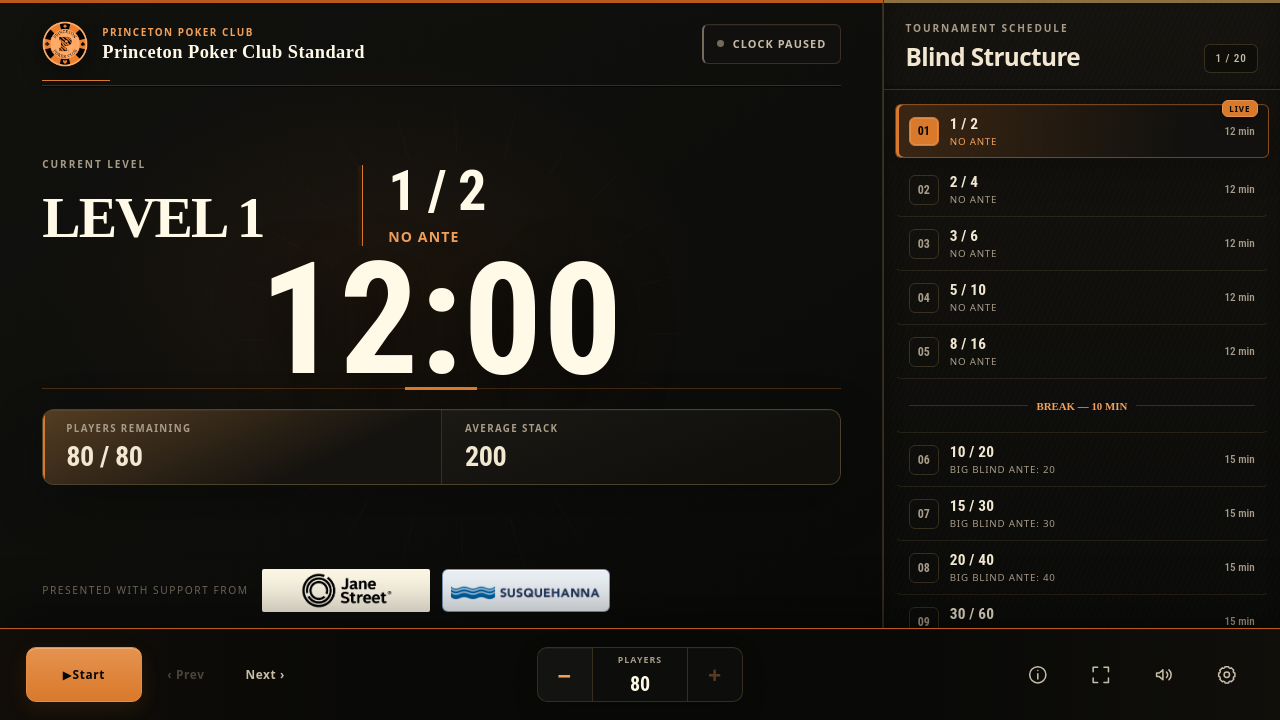
Test: TournamentDisplay › jumps to a schedule entry from the main display
Click the button with aria-label "Level 2 2 / 4" at (973, 200), box top-left (896, 164), bottom-right (1268, 216)
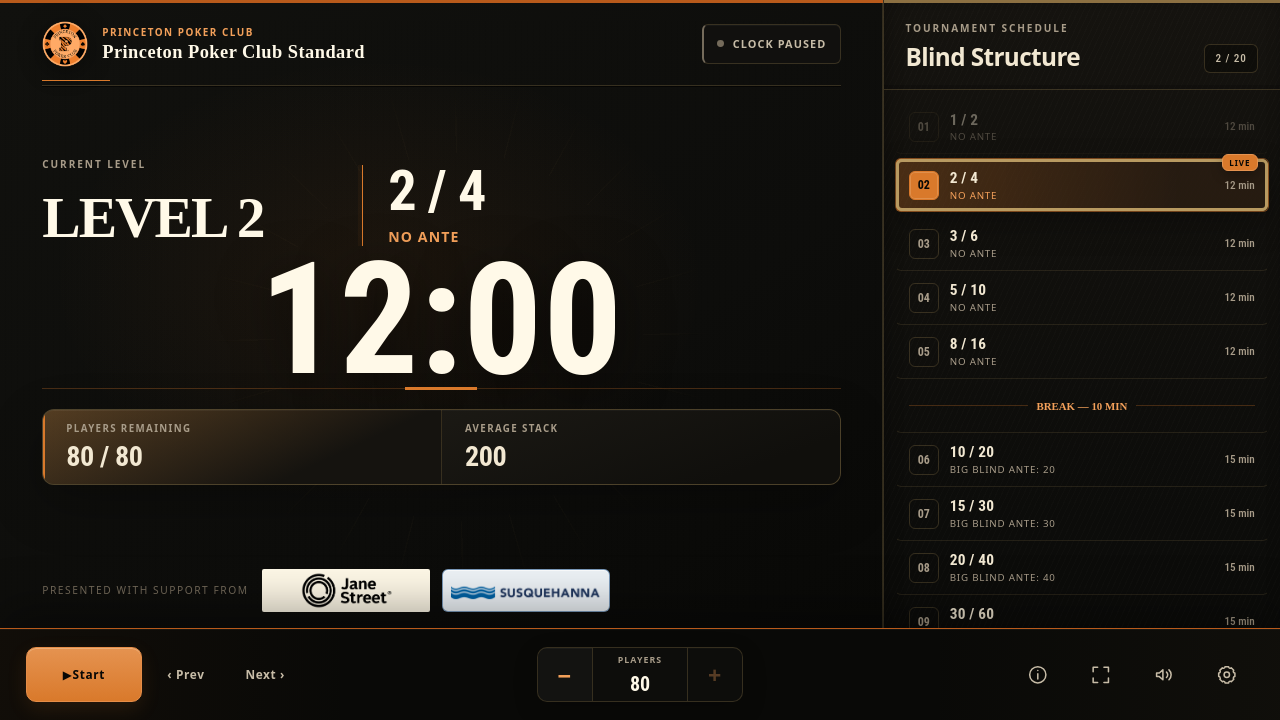
Check: the text "12:00" is shown, box top-left (42, 262), bottom-right (840, 389)
Check: the heading "LEVEL 2" is shown, box top-left (42, 186), bottom-right (263, 249)
